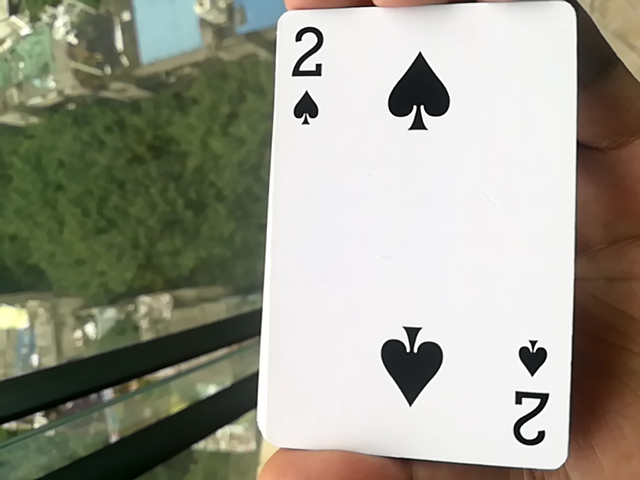ht 2: (247, 10, 586, 474)
